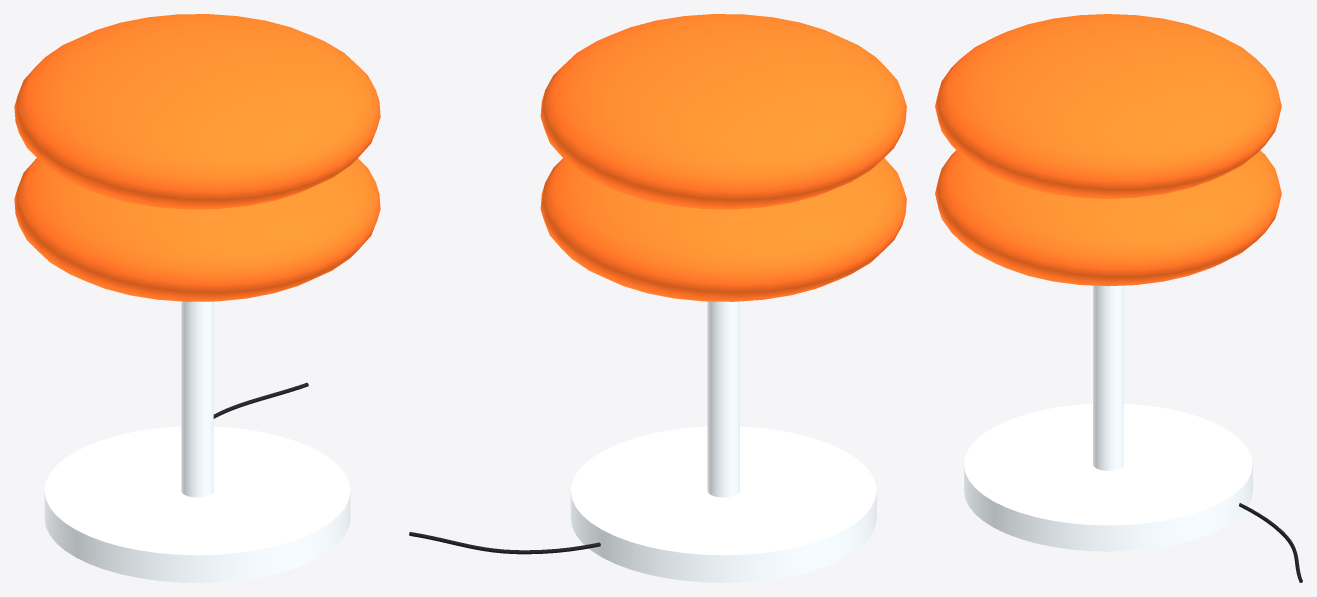
Rendered from ref03_03.glb.
The picture shows the model from 3 angles, left to right: view 1: azimuth 30°, elevation 25°; view 2: azimuth 150°, elevation 25°; view 3: azimuth 270°, elevation 25°; orthographic projection. The views are drawn at different scales.
Visible parts, largest first — view 1: ref03_03; view 2: ref03_03; view 3: ref03_03.
Boxes of the visible parts, <box> form: ref03_03: <box>14,14,380,582</box>; ref03_03: <box>409,14,906,582</box>; ref03_03: <box>935,14,1302,582</box>.
Bounding box in the file's own units: 0.4203 × 0.505 × 0.382.
